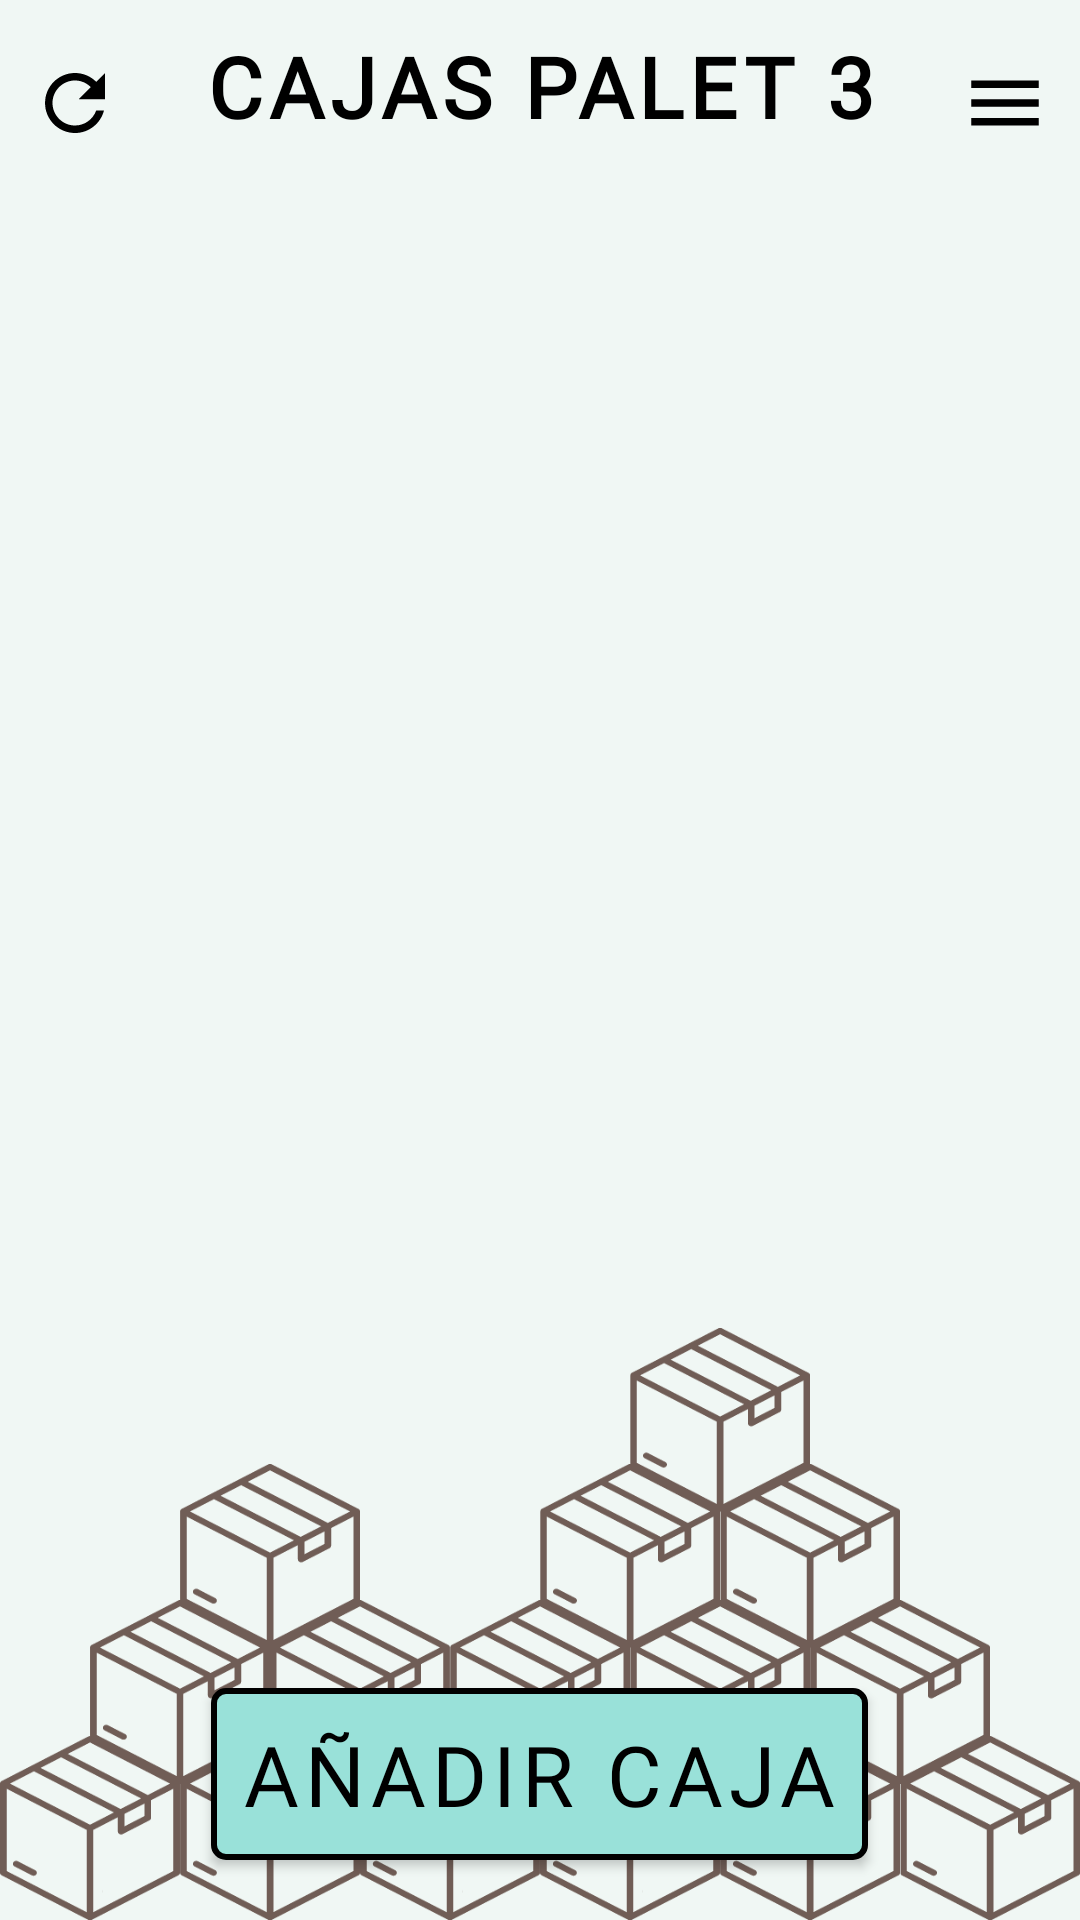

Icon bounding boxes for this 1080x1920 phone screenshot, format (x1, y1, x2, y2):
menu: (971, 80, 1039, 126)
refresh: (45, 73, 105, 133)
